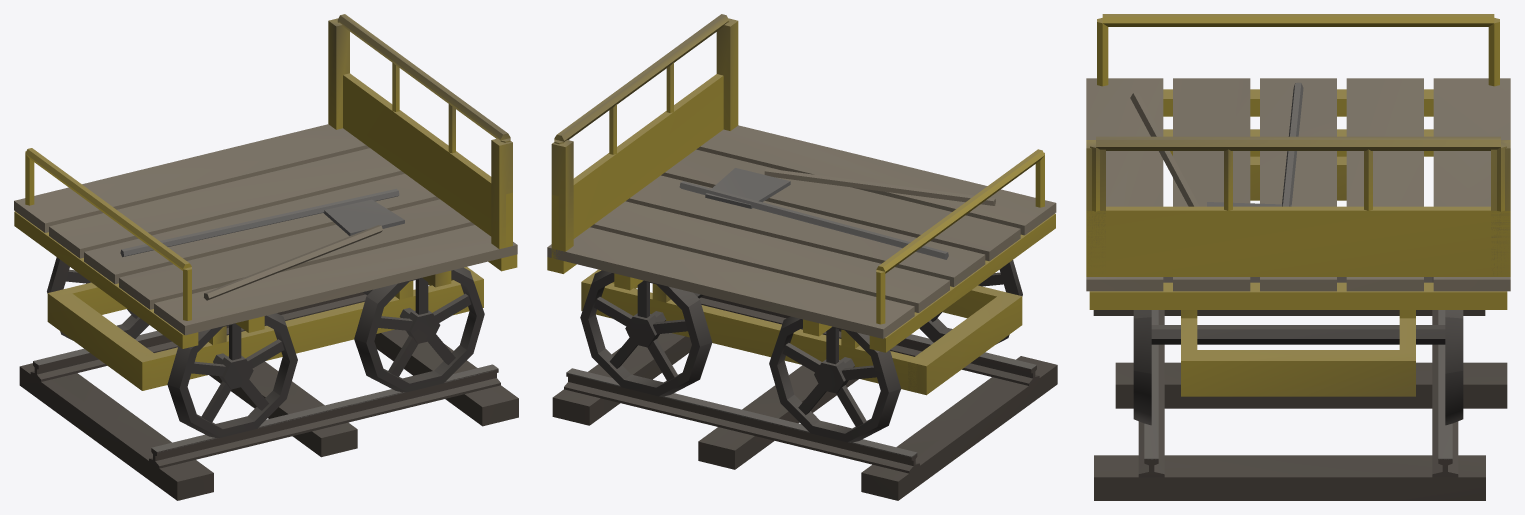
The model's file is platelayer_trolley.glb.
The picture shows the model from 3 angles, left to right: view 1: azimuth 30°, elevation 25°; view 2: azimuth 150°, elevation 25°; view 3: azimuth 270°, elevation 25°; orthographic projection. The views are drawn at different scales.
Parts seen in each view (by area): view 1: platelayer_trolley; view 2: platelayer_trolley; view 3: platelayer_trolley.
Part boxes in pixels (left/top/right/bottom): platelayer_trolley: left=14, top=14, right=518, bottom=500; platelayer_trolley: left=547, top=14, right=1057, bottom=500; platelayer_trolley: left=1086, top=14, right=1510, bottom=500.
Size of the model in its own units: 1.5 by 1.2 by 1.3.
